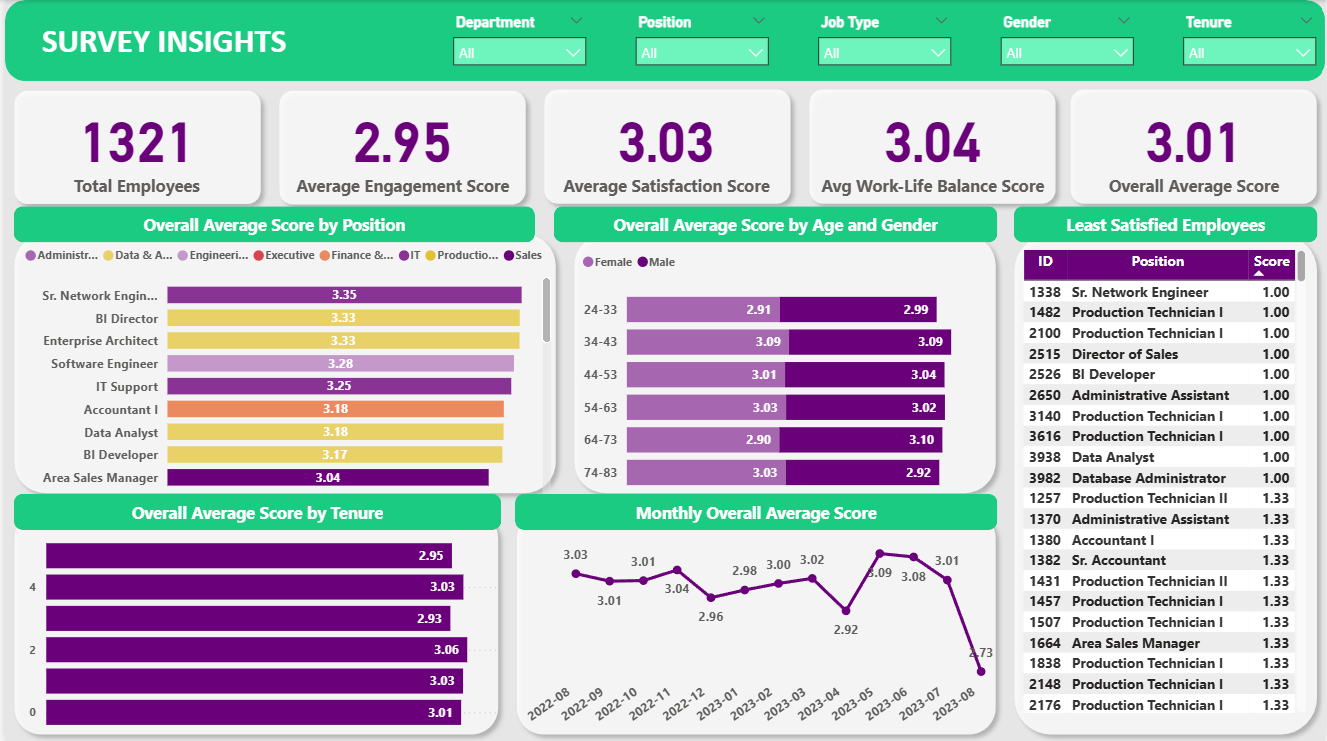

Layout of this report page (visuals, bound fields, positions):
{"tool":"powerbi","page":{"name":"Survey","canvas":[1280,720],"ordinal":3},"visuals":[{"type":"shape","box":[486.6,486.6,481.8,233.6],"z":0},{"type":"shape","box":[542.3,217.9,426.1,268.7],"z":1000},{"type":"shape","box":[0,486.6,486.6,233.6],"z":2000},{"type":"shape","box":[0,217.9,542.3,268.7],"z":3000},{"type":"barChart","fields":{"Category":["silver Employees.title"],"Y":["Avg(silver EngagementSurvey.overall_avg_score)"],"Series":["silver Employees.department"]},"box":[14.5,228.8,519.3,256.6],"z":5000},{"type":"barChart","fields":{"Category":["silver Employees.age_group"],"Y":["Avg(silver EngagementSurvey.overall_avg_score)"],"Series":["silver Employees.gender"]},"box":[554.4,234.8,409.1,253],"z":6000},{"type":"shape","box":[0,78.7,256.6,128],"z":7000},{"type":"shape","box":[256.6,78.7,256.6,128.3],"z":8000},{"type":"shape","box":[512.9,78,256.4,128.8],"z":9000},{"type":"shape","box":[769.3,78,256.4,128.8],"z":10000},{"type":"shape","box":[1023.3,78,256.4,128.8],"z":11000},{"type":"card","fields":{"Values":["Count(silver EngagementSurvey.employee_id)"]},"box":[8.5,87.2,238.5,110.2],"z":12000},{"type":"card","fields":{"Values":["Avg(silver EngagementSurvey.engagement_score)"]},"box":[266.3,87,238,110.4],"z":13000},{"type":"card","fields":{"Values":["Avg(silver EngagementSurvey.satisfaction_score)"]},"box":[521.5,87,238,110.4],"z":14000},{"type":"card","fields":{"Values":["Avg(silver EngagementSurvey.work_life_balance_score)"]},"box":[779.1,87,238,110.4],"z":15000},{"type":"card","fields":{"Values":["Avg(silver EngagementSurvey.overall_avg_score)"]},"box":[1033.1,87,238,110.4],"z":16000},{"type":"clusteredBarChart","fields":{"Category":["silver Employees.Tenure (in years)"],"Y":["Avg(silver EngagementSurvey.overall_avg_score)"]},"box":[18.2,513.3,468.5,200.9],"z":17000},{"type":"shape","box":[968.4,217.9,311.1,502.4],"z":18000},{"type":"tableEx","fields":{"Values":["silver EngagementSurvey.employee_id","silver Employees.title","Sum(silver EngagementSurvey.overall_avg_score)"]},"box":[980.5,237.3,284.5,457.6],"z":19000},{"type":"lineChart","fields":{"Category":["silver EngagementSurvey.YearMonth"],"Y":["Avg(silver EngagementSurvey.overall_avg_score)"]},"box":[499.9,518.1,463.6,200.9],"z":20000},{"type":"shape","box":[8.5,199.7,504.8,35.1],"z":21000},{"type":"shape","box":[531.4,199.7,429.7,35.1],"z":22000},{"type":"shape","box":[976.9,199.7,294.2,35.1],"z":23000},{"type":"shape","box":[8.5,478.1,472.1,35.1],"z":24000},{"type":"shape","box":[493.9,478.1,467.3,35.1],"z":25000},{"type":"shape","box":[0,0,1279.5,78.7],"z":25001},{"type":"slicer","fields":{"Values":["silver Employees.department"]},"box":[423.2,7.3,148.9,65.4],"z":25002},{"type":"slicer","fields":{"Values":["silver Employees.title"]},"box":[600,7.3,148.9,65.4],"z":25003},{"type":"slicer","fields":{"Values":["silver Employees.employment_type"]},"box":[776.9,7.3,148.9,65.4],"z":25004},{"type":"slicer","fields":{"Values":["silver Employees.gender"]},"box":[953.8,7.3,148.9,65.4],"z":25005},{"type":"slicer","fields":{"Values":["silver Employees.Tenure (in years)"]},"box":[1130.6,7.3,148.9,65.4],"z":25006}]}

Visuals, with their boxes in screenshot pixels (x1, y1, x2, y2), scaled from the page's 1280x720 canvas onto the 1327x741 screenshot:
shape: 504, 501, 1004, 740
shape: 562, 224, 1004, 501
shape: 0, 501, 504, 740
shape: 0, 224, 562, 501
barChart - silver Employees.title x Avg(silver EngagementSurvey.overall_avg_score): 15, 235, 553, 500
barChart - silver Employees.age_group x Avg(silver EngagementSurvey.overall_avg_score): 575, 242, 999, 502
shape: 0, 81, 266, 213
shape: 266, 81, 532, 213
shape: 532, 80, 798, 213
shape: 798, 80, 1063, 213
shape: 1061, 80, 1326, 213
card - Count(silver EngagementSurvey.employee_id): 9, 90, 256, 203
card - Avg(silver EngagementSurvey.engagement_score): 276, 90, 523, 203
card - Avg(silver EngagementSurvey.satisfaction_score): 541, 90, 787, 203
card - Avg(silver EngagementSurvey.work_life_balance_score): 808, 90, 1054, 203
card - Avg(silver EngagementSurvey.overall_avg_score): 1071, 90, 1318, 203
clusteredBarChart - silver Employees.Tenure (in years) x Avg(silver EngagementSurvey.overall_avg_score): 19, 528, 505, 735
shape: 1004, 224, 1326, 740
tableEx - silver EngagementSurvey.employee_id x silver Employees.title: 1017, 244, 1311, 715
lineChart - silver EngagementSurvey.YearMonth x Avg(silver EngagementSurvey.overall_avg_score): 518, 533, 999, 740
shape: 9, 206, 532, 242
shape: 551, 206, 996, 242
shape: 1013, 206, 1318, 242
shape: 9, 492, 498, 528
shape: 512, 492, 996, 528
shape: 0, 0, 1326, 81
slicer - silver Employees.department: 439, 8, 593, 75
slicer - silver Employees.title: 622, 8, 776, 75
slicer - silver Employees.employment_type: 805, 8, 960, 75
slicer - silver Employees.gender: 989, 8, 1143, 75
slicer - silver Employees.Tenure (in years): 1172, 8, 1326, 75
